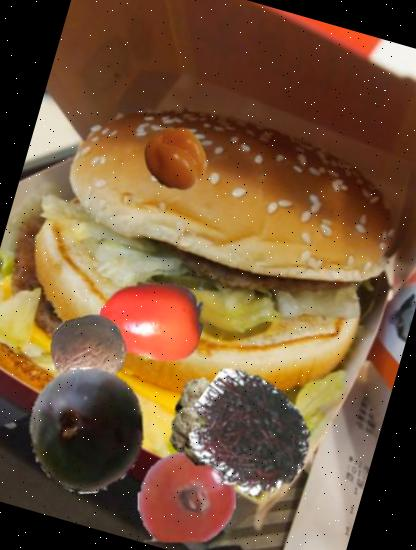Cauliflower: (159, 369, 272, 482)
Kaki: (87, 254, 216, 384)
Lychee: (168, 379, 262, 474)
Pepper: (135, 117, 217, 198)
Plum: (9, 352, 164, 508)
Rambutan: (172, 359, 325, 512)
Redcurrant: (125, 436, 247, 550)
Walnut: (40, 303, 136, 398)
